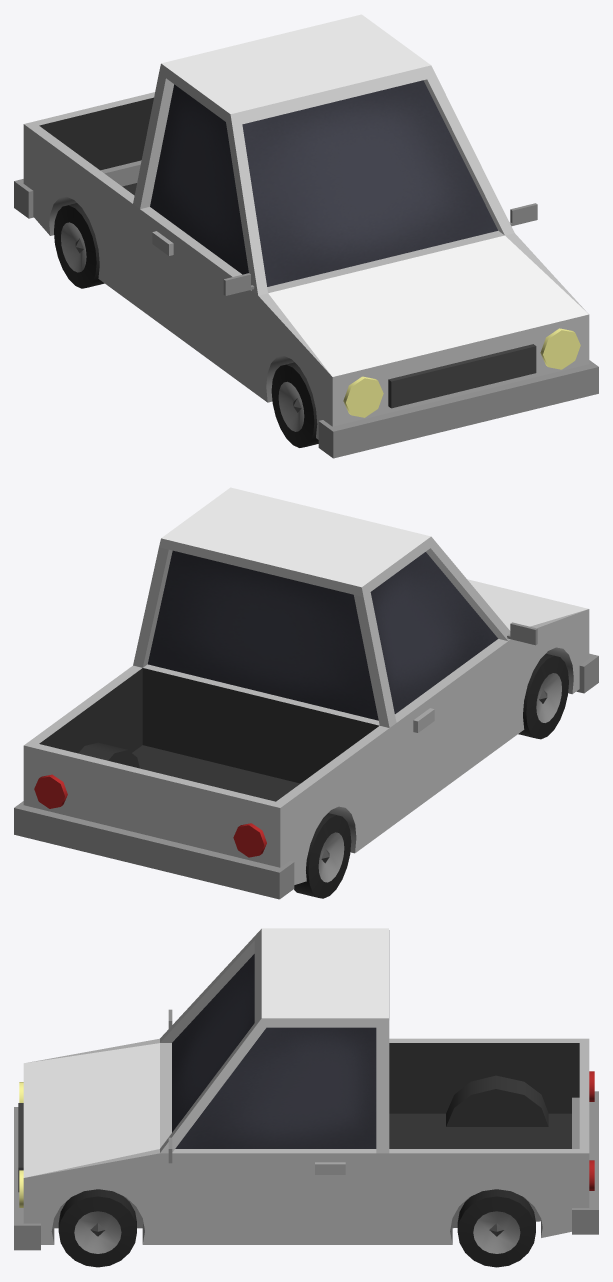
The model's file is Car_D2.fbx.
3 renders of one model, top to bottom at view 1: azimuth 30°, elevation 25°; view 2: azimuth 150°, elevation 25°; view 3: azimuth 270°, elevation 25°, orthographic. The views are drawn at different scales.
Visible parts, largest first — view 1: CAR4_Body, Car4_RR, Car4_RF; view 2: CAR4_Body, Car4_RR, Car4_RF; view 3: CAR4_Body, Car4_LR, Car4_LF.
Boxes of the visible parts, bbox=[...] form: CAR4_Body: bbox=[14, 14, 598, 458]; Car4_RR: bbox=[54, 203, 104, 288]; Car4_RF: bbox=[271, 362, 318, 447]; CAR4_Body: bbox=[14, 487, 598, 899]; Car4_RR: bbox=[294, 813, 351, 898]; Car4_RF: bbox=[518, 653, 568, 739]; CAR4_Body: bbox=[14, 928, 598, 1250]; Car4_LR: bbox=[457, 1189, 535, 1267]; Car4_LF: bbox=[58, 1189, 136, 1267].
Bounding box in the file's own units: 235 × 186 × 416.
Materials: 1 (1 with a texture image).
